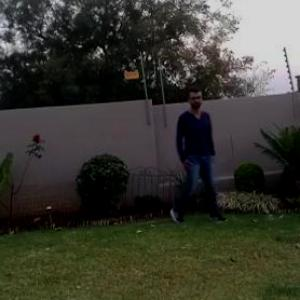follow: (163, 78, 222, 243)
